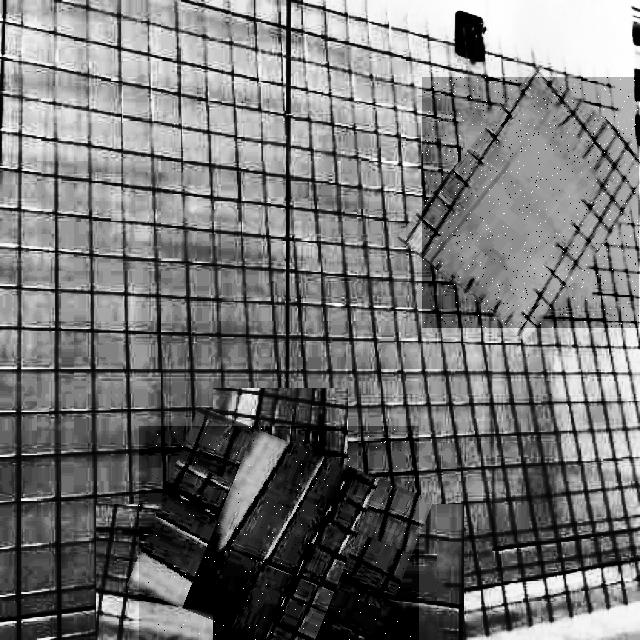anomaly-fence: (139, 426, 419, 640), (422, 77, 639, 328)
